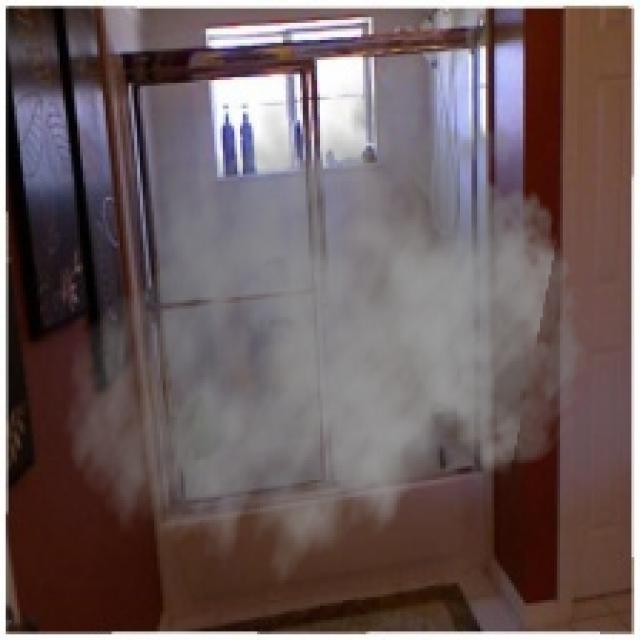smoke: (63, 63, 594, 606)
